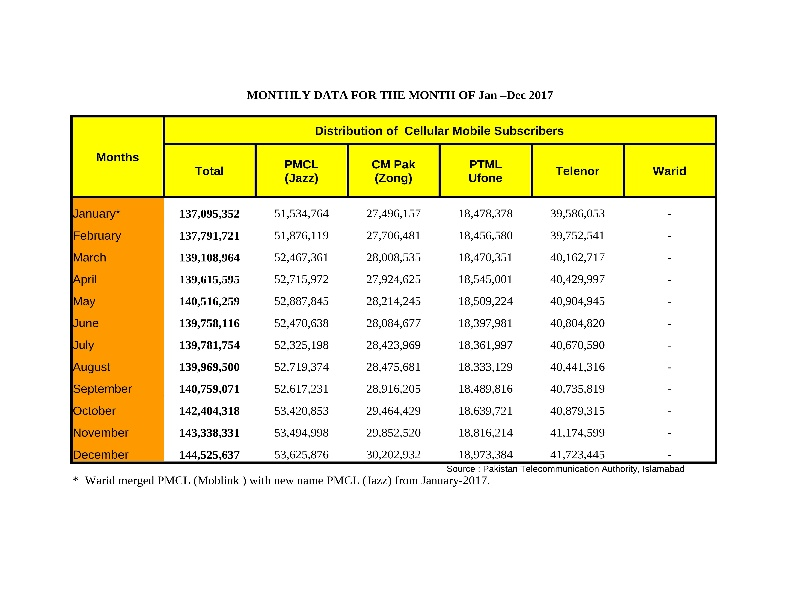borderless: (69, 112, 721, 466)
cell: (311, 121, 571, 141), (366, 156, 421, 189), (463, 155, 508, 186), (451, 333, 520, 353), (173, 423, 245, 442), (177, 248, 245, 268), (548, 311, 609, 333), (280, 156, 323, 187), (454, 356, 517, 376), (453, 249, 519, 268), (174, 403, 247, 420), (453, 400, 515, 420), (453, 311, 517, 330), (174, 226, 245, 243), (176, 272, 247, 289), (173, 380, 244, 397), (174, 446, 245, 463), (546, 269, 609, 288), (547, 356, 610, 375), (174, 205, 244, 222), (71, 380, 137, 398), (267, 271, 333, 289), (452, 270, 518, 288), (362, 203, 424, 222), (455, 423, 517, 442), (178, 293, 247, 310), (547, 402, 612, 420), (364, 247, 424, 266), (176, 336, 243, 353), (361, 314, 424, 332), (69, 225, 125, 245), (178, 316, 248, 332), (272, 247, 334, 265), (455, 292, 517, 310), (545, 203, 607, 221), (548, 248, 610, 266), (547, 379, 609, 397), (270, 226, 335, 243), (454, 445, 519, 462), (271, 292, 332, 310), (271, 314, 332, 332), (363, 380, 424, 398), (548, 225, 609, 243), (548, 423, 609, 441), (176, 358, 243, 374), (270, 403, 333, 420), (361, 336, 424, 353), (456, 203, 515, 221), (550, 161, 603, 181), (270, 358, 332, 375), (271, 424, 333, 441), (363, 402, 425, 419), (269, 380, 334, 396), (71, 446, 132, 463), (271, 336, 332, 353), (458, 226, 519, 243), (548, 336, 609, 353), (364, 225, 424, 242), (547, 446, 607, 463), (270, 446, 333, 462), (547, 292, 610, 308), (268, 206, 334, 221), (364, 292, 425, 308), (363, 425, 427, 440), (457, 380, 516, 396), (70, 204, 120, 222), (364, 358, 424, 373), (363, 272, 427, 286), (70, 425, 133, 439), (67, 403, 122, 419), (649, 162, 695, 181), (360, 445, 426, 458), (92, 149, 142, 165), (71, 249, 111, 268), (191, 163, 229, 181), (71, 359, 113, 375), (69, 272, 101, 289), (71, 315, 105, 331), (72, 335, 100, 353), (71, 293, 99, 310), (661, 248, 679, 267), (663, 270, 678, 290), (662, 340, 683, 353), (662, 318, 678, 335), (662, 228, 680, 243), (660, 207, 678, 221), (660, 296, 678, 309), (664, 382, 678, 398), (660, 363, 678, 375), (663, 406, 676, 418), (665, 448, 678, 460), (664, 427, 676, 439)
